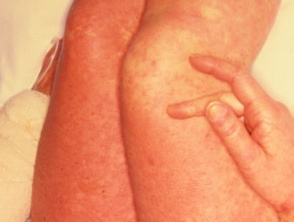SJS-TEN: (30, 0, 145, 222)
